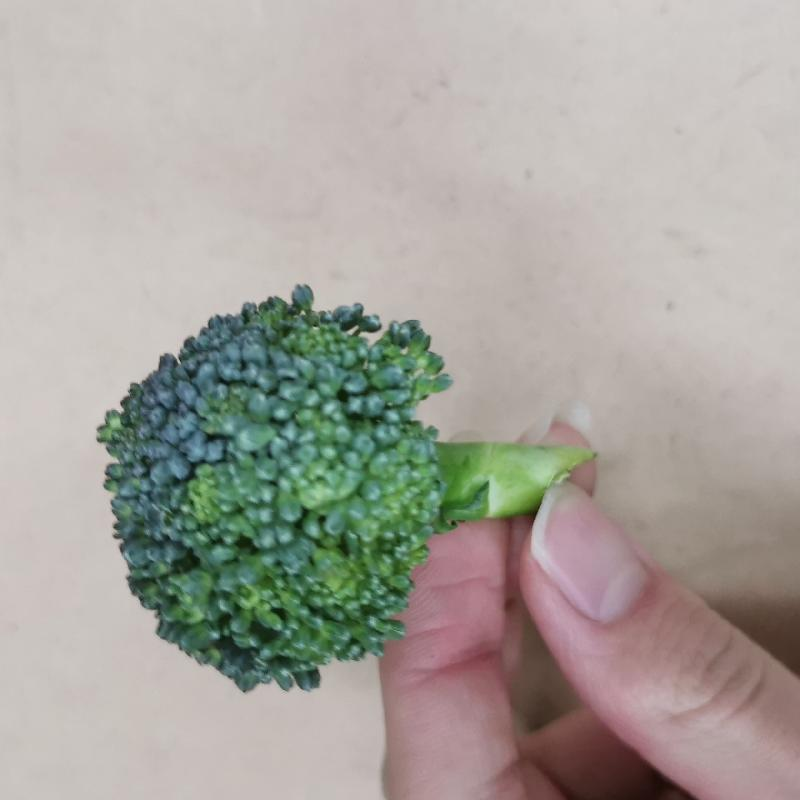broccoli: (81, 280, 604, 693)
